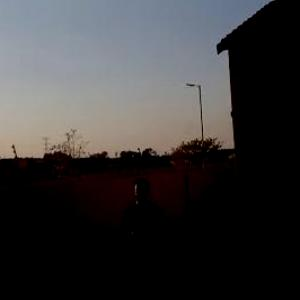follow: (114, 169, 170, 299)
